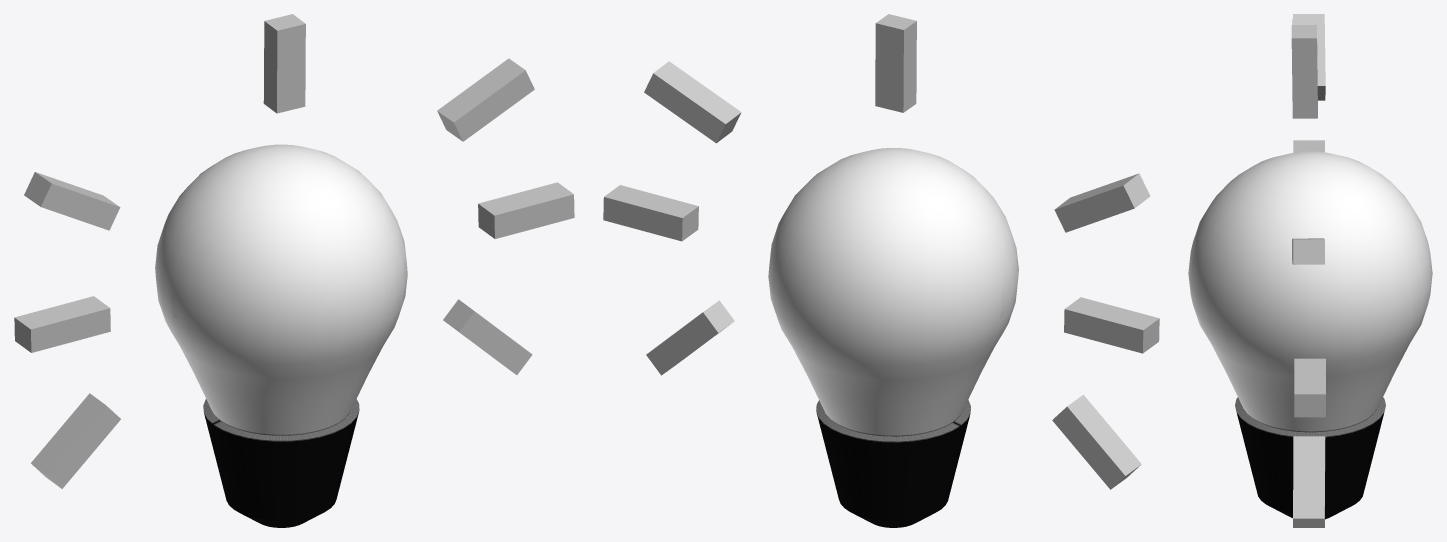
The model's file is glowingBulb.fbx.
3 renders of one model, left to right at view 1: azimuth 30°, elevation 25°; view 2: azimuth 150°, elevation 25°; view 3: azimuth 270°, elevation 25°, orthographic. The views are drawn at different scales.
Visible parts, largest first — view 1: Sphere, Cube, Cube.003, Cube.005, Cube.006, Cube.007, Cube.001, Cube.004; view 2: Sphere, Cube.003, Cube, Cube.005, Cube.006, Cube.007, Cube.001, Cube.004; view 3: Sphere, Cube.004, Cube.003, Cube.006, Cube.001, Cube, Cube.007.
Part boxes in pixels (x1,y1,x2,y2): Sphere: (155,144,407,527); Cube: (437,58,534,141); Cube.003: (263,14,305,113); Cube.005: (31,393,120,488); Cube.006: (478,182,574,238); Cube.007: (14,296,110,352); Cube.001: (24,172,120,230); Cube.004: (443,299,532,374); Sphere: (768,148,1018,527); Cube.003: (875,14,916,112); Cube: (644,61,741,143); Cube.005: (1052,394,1141,489); Cube.006: (603,185,698,241); Cube.007: (1064,297,1159,353); Cube.001: (1054,173,1150,232); Cube.004: (646,300,734,375); Sphere: (1188,151,1432,519); Cube.004: (1293,436,1325,527); Cube.003: (1291,24,1317,118); Cube.006: (1294,358,1325,417); Cube.001: (1292,14,1325,100); Cube: (1292,238,1324,264); Cube.007: (1293,140,1324,152).
Bounding box in the file's own units: 4.96 × 4.33 × 2.
